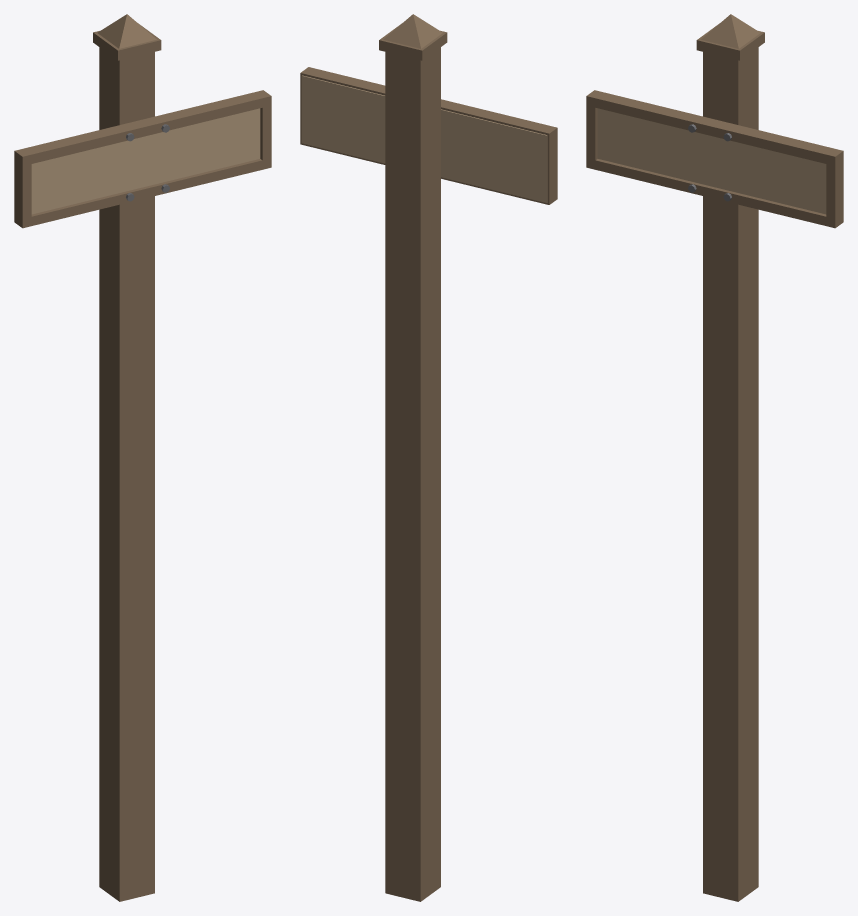
The model's file is street_post_1318178f.glb.
3 views of the same model, side by side, from view 1: azimuth 30°, elevation 25°; view 2: azimuth 150°, elevation 25°; view 3: azimuth 330°, elevation 25° (orthographic).
Visible parts, largest first — view 1: street_post; view 2: street_post; view 3: street_post.
Boxes of the visible parts, box(x1,y1,x2,y2) form: street_post: box(14, 14, 271, 901); street_post: box(300, 14, 557, 901); street_post: box(586, 14, 843, 901).
Bounding box in the file's own units: 0.772 × 2.6 × 0.183.
